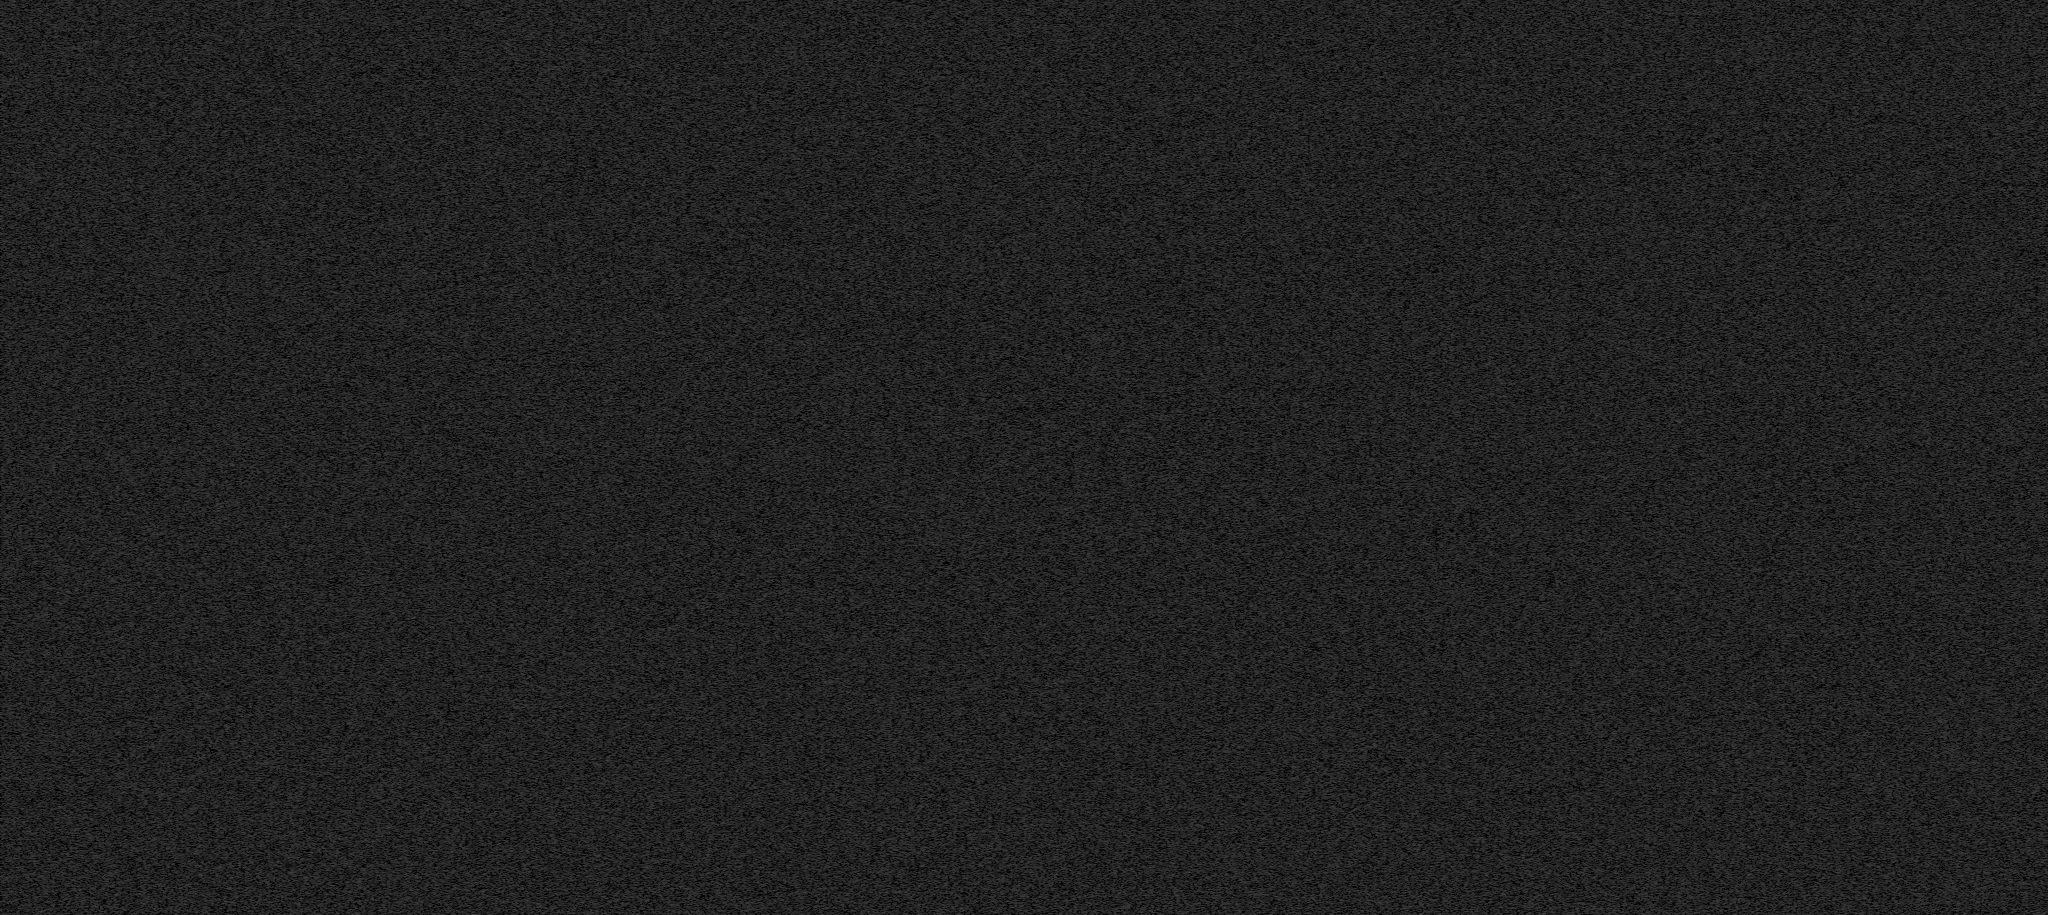wv_cw: (674, 0, 694, 915), (1401, 0, 1418, 915)
wv_lsb: (59, 208, 67, 711), (60, 721, 67, 915), (60, 5, 67, 198), (60, 200, 67, 208)
wv_wbfm: (1785, 0, 1944, 915)
